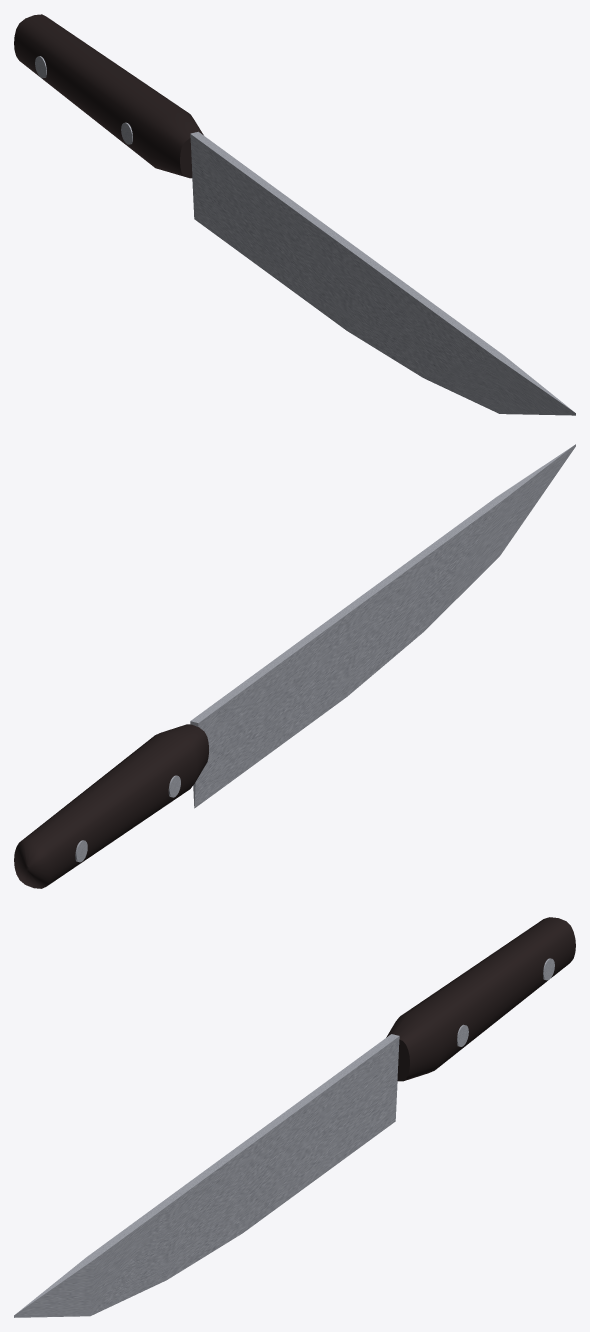
File: Knife.fbx
3 renders of one model, top to bottom at view 1: azimuth 30°, elevation 25°; view 2: azimuth 150°, elevation 25°; view 3: azimuth 330°, elevation 25°, orthographic.
Parts seen in each view (by area): view 1: Blade, Handle; view 2: Blade, Handle; view 3: Blade, Handle.
Boxes of the visible parts, <box> form: Blade: <box>190,131,575,415</box>; Handle: <box>14,14,203,178</box>; Blade: <box>190,444,575,808</box>; Handle: <box>14,724,208,888</box>; Blade: <box>14,1034,399,1317</box>; Handle: <box>386,917,575,1081</box>.
Bounding box in the file's own units: 0.0352 × 0.0621 × 0.6846.
Materials: 2 (1 with a texture image).
